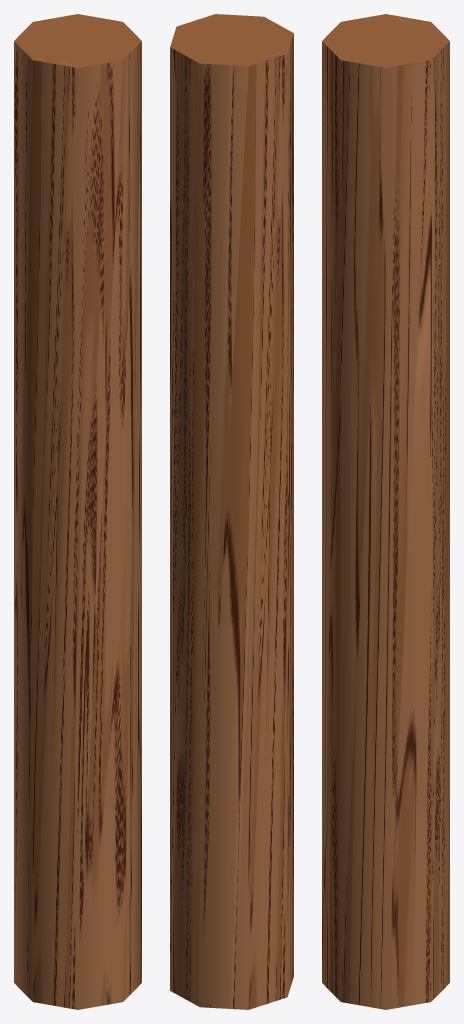
File: FenceEnd@Model.fbx
3 views of the same model, side by side, from view 1: azimuth 90°, elevation 25°; view 2: azimuth 150°, elevation 25°; view 3: azimuth 270°, elevation 25° (orthographic).
Parts seen in each view (by area): view 1: PenceL; view 2: PenceL; view 3: PenceL.
Part boxes in pixels (x1,y1,x2,y2): PenceL: [14, 14, 141, 1009]; PenceL: [170, 14, 293, 1009]; PenceL: [322, 14, 449, 1009].
Bounding box in the file's own units: 20.14 × 164 × 20.14.
